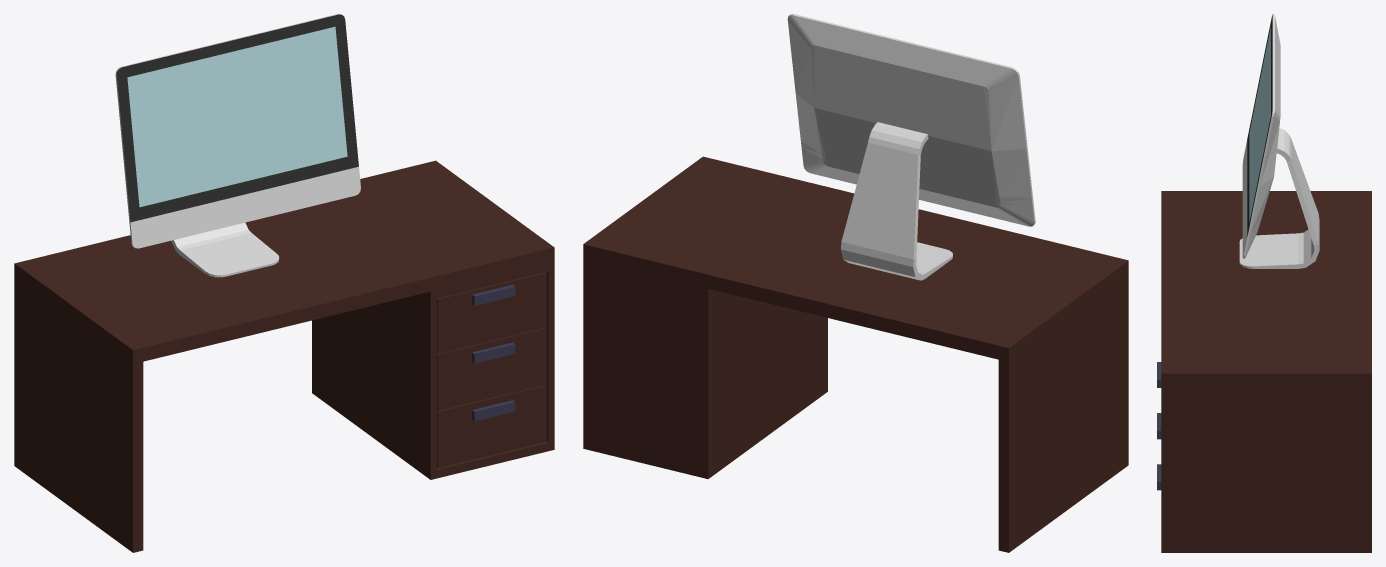
Rendered from DeskWoodiMac.glb.
3 views of the same model, side by side, from view 1: azimuth 30°, elevation 25°; view 2: azimuth 150°, elevation 25°; view 3: azimuth 270°, elevation 25° (orthographic). The views are drawn at different scales.
Visible parts, largest first — view 1: DeskWoodiMac; view 2: DeskWoodiMac; view 3: DeskWoodiMac.
Boxes of the visible parts, x1=… form: DeskWoodiMac: x1=14, y1=14, x2=554, y2=552; DeskWoodiMac: x1=583, y1=14, x2=1128, y2=552; DeskWoodiMac: x1=1157, y1=14, x2=1371, y2=552.
Bounding box in the file's own units: 1.79 × 1.74 × 0.892.
2 materials, 2 textured.
